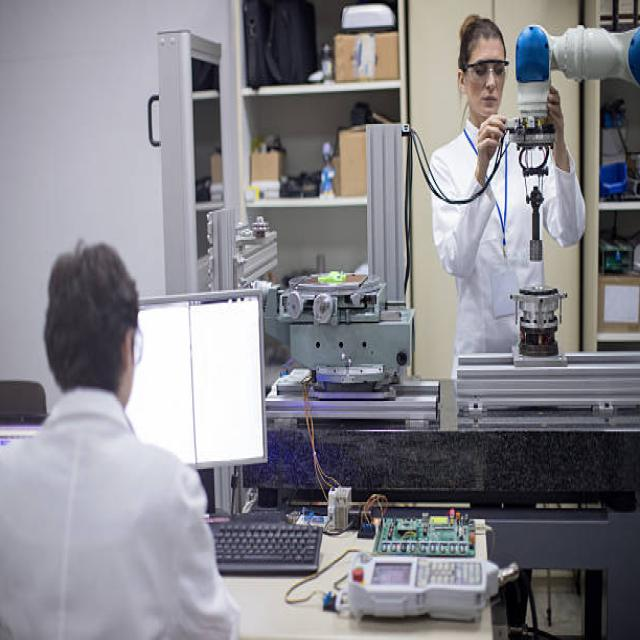Robotic-arm: (512, 8, 640, 246)
